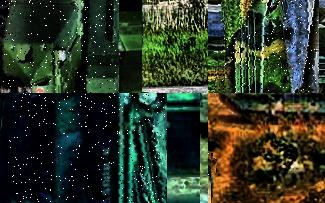tanks: (9, 94, 168, 203), (1, 1, 120, 94), (223, 1, 289, 94), (221, 94, 325, 120)
